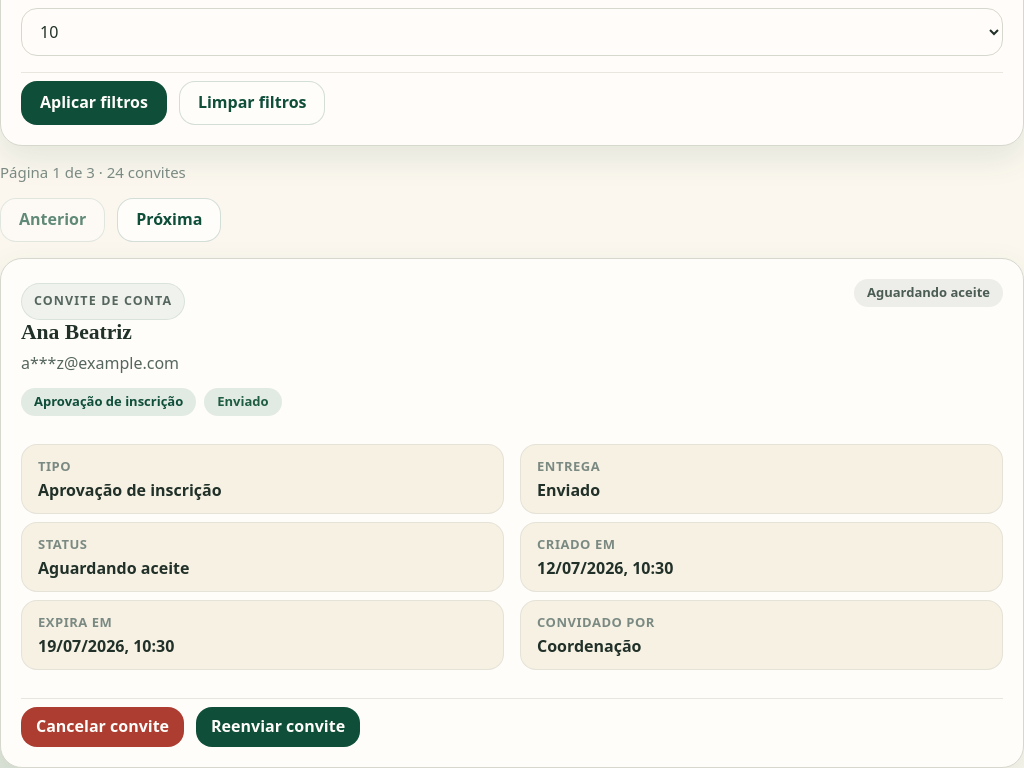
AdminAccountInvitationsPage › clique em cancelar abre confirmacao
(page scrolled)
Click the button "Cancelar convite" at x=102, y=727, box [21,707,184,747]
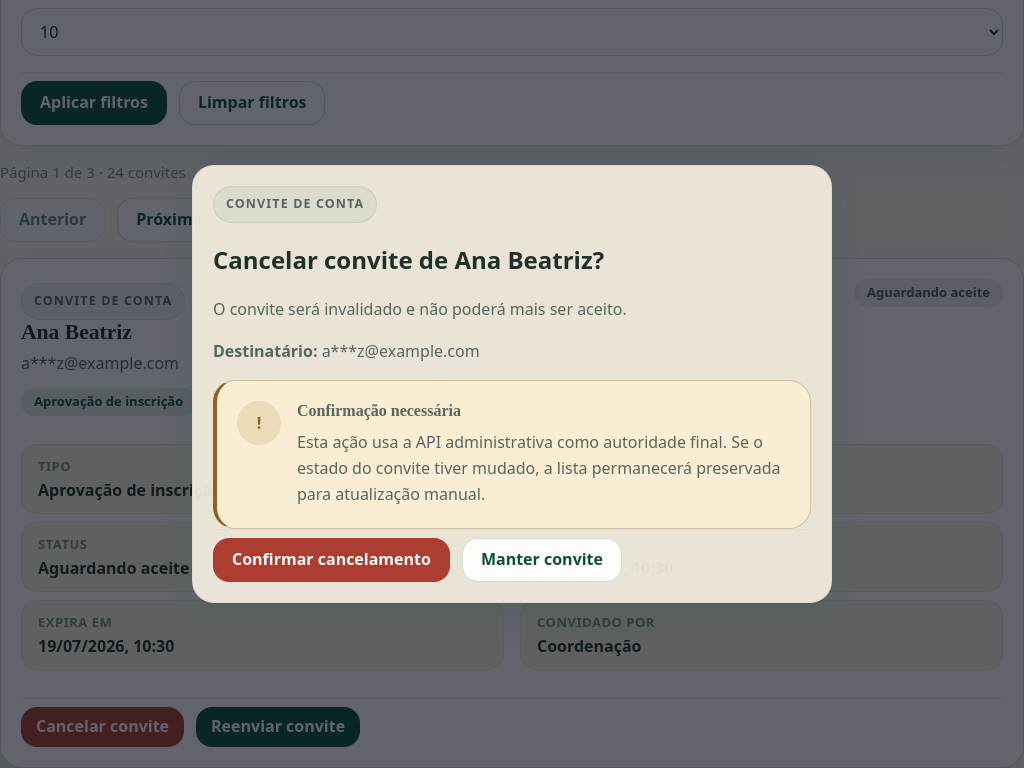
expect the heading "Cancelar convite de Ana Beatriz?" does not show "invitation-internal-id-001": met, box [213,243,604,276]
expect the dialog "Cancelar convite de Ana Beatriz" is shown: met
